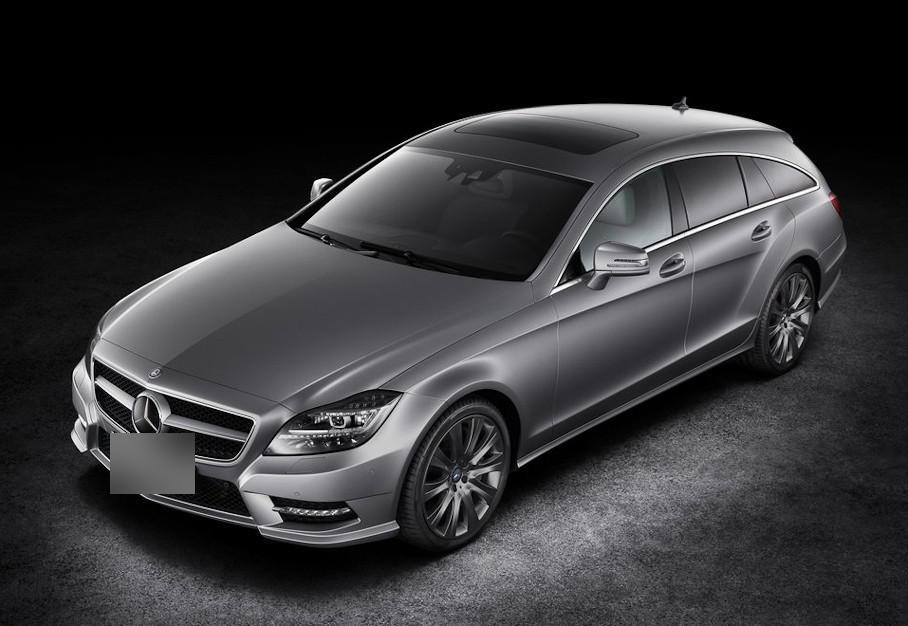Wagon: (67, 96, 849, 555)
